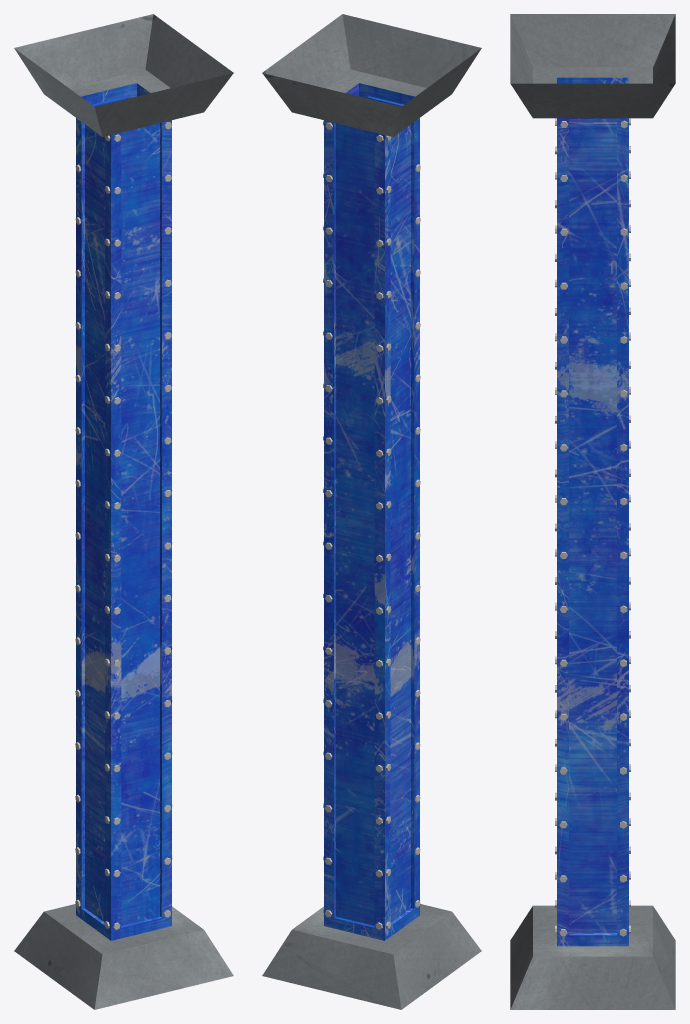
File: StealBeam.fbx
3 views of the same model, side by side, from view 1: azimuth 30°, elevation 25°; view 2: azimuth 150°, elevation 25°; view 3: azimuth 270°, elevation 25° (orthographic). The views are drawn at different scales.
Visible parts, largest first — view 1: SteelBeams.004, Screws.005, Screws.004, Screws.003, Screws.002; view 2: SteelBeams.004, Screws.006, Screws.007, Screws.002, Screws.003; view 3: SteelBeams.004, Screws, Screws.001.
Boxes of the visible parts, x1,y1,x2,y2 form: SteelBeams.004: (14,14,233,1009); Screws.005: (164,122,171,917); Screws.004: (113,134,121,929); Screws.003: (104,135,110,928); Screws.002: (75,119,80,907); SteelBeams.004: (262,14,481,1009); Screws.006: (325,122,332,917); Screws.007: (375,134,383,929); Screws.002: (386,135,391,928); Screws.003: (415,118,420,907); SteelBeams.004: (510,14,675,1009); Screws: (559,121,568,936); Screws.001: (619,120,627,936).
Size of the model in its own units: 137 by 850 by 137.
